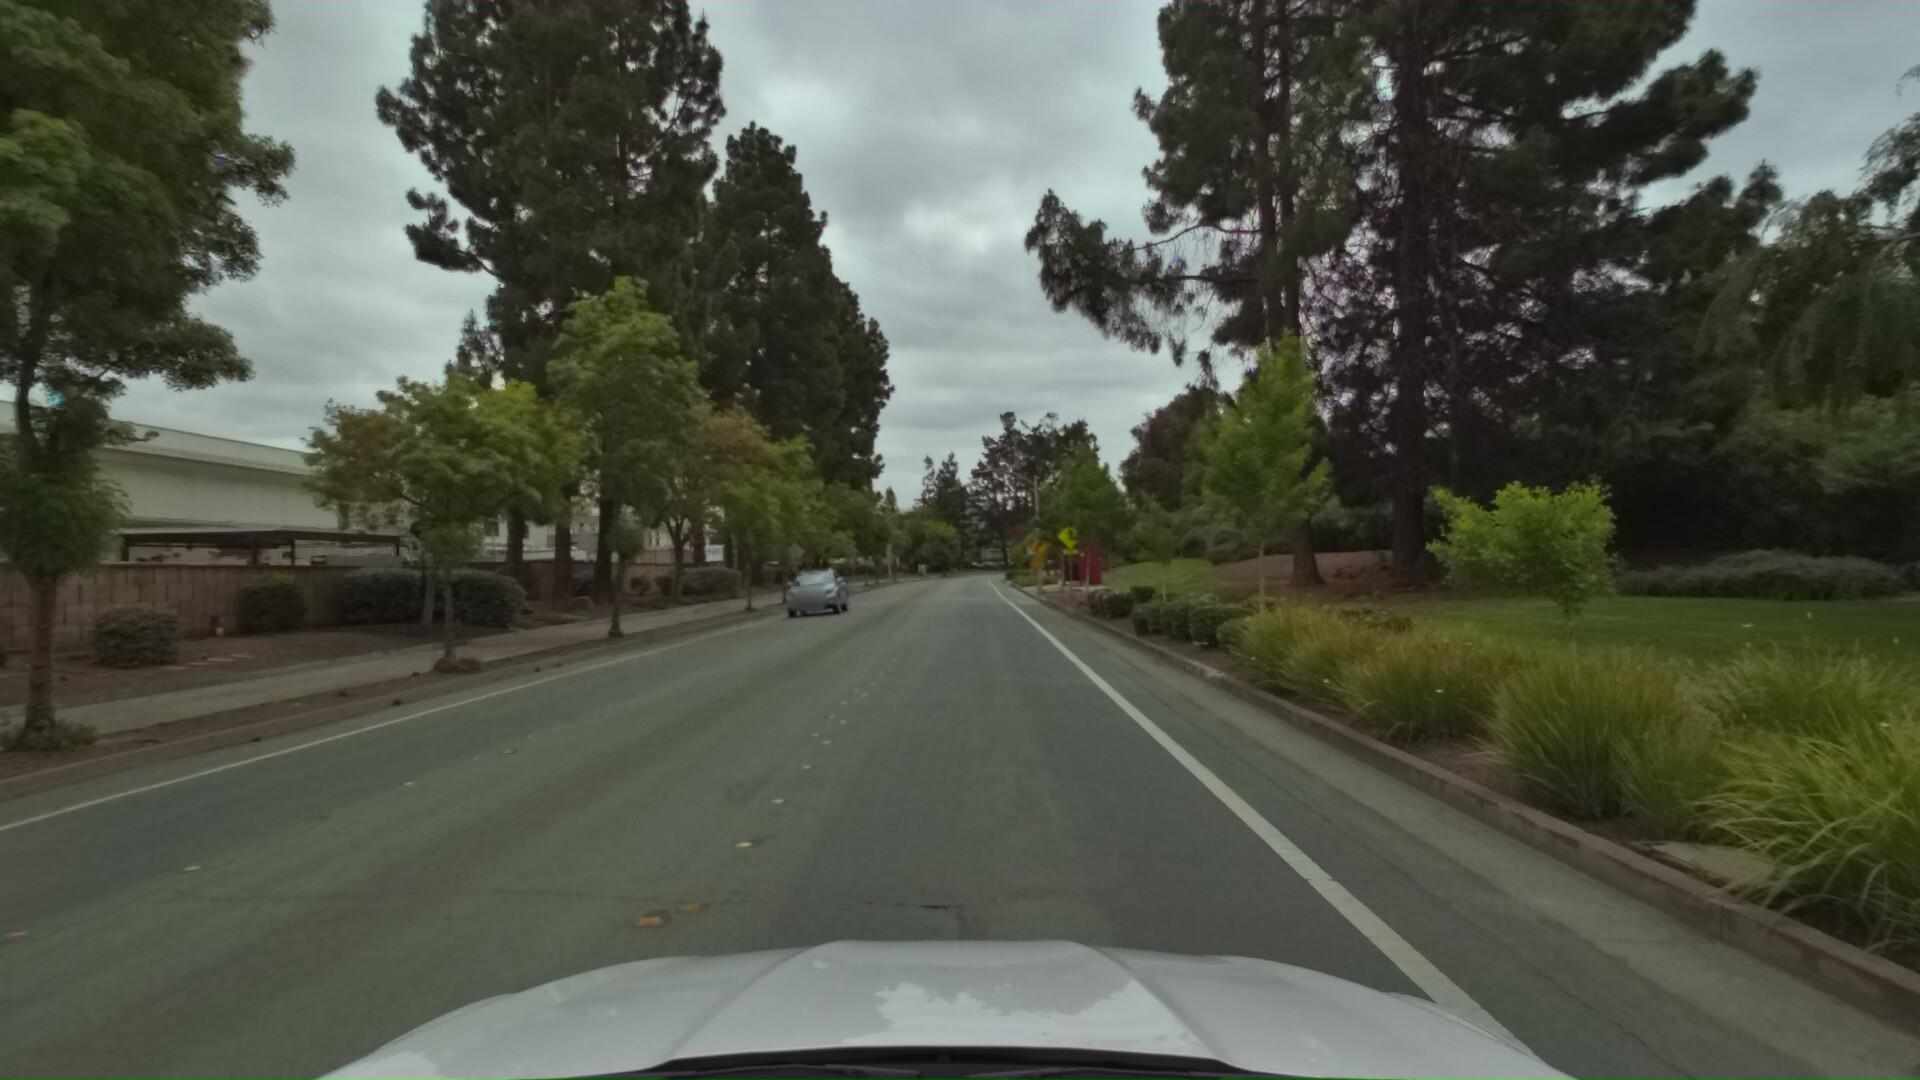car: (771, 564, 851, 622)
